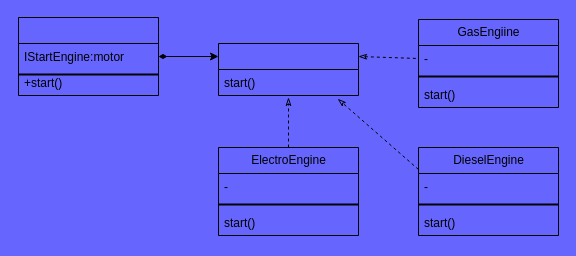
Some shapes in this 576 by 256 pixel diagram are drawn without their labels. Here are the shapes that lost their labels. From the top down, the box of each, then its label:
(18, 16, 158, 96): CherryTiggo
(218, 42, 358, 96): <<interface>> IStartEngine
